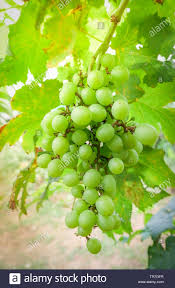grapes: (42, 62, 142, 247), (48, 77, 141, 256)
